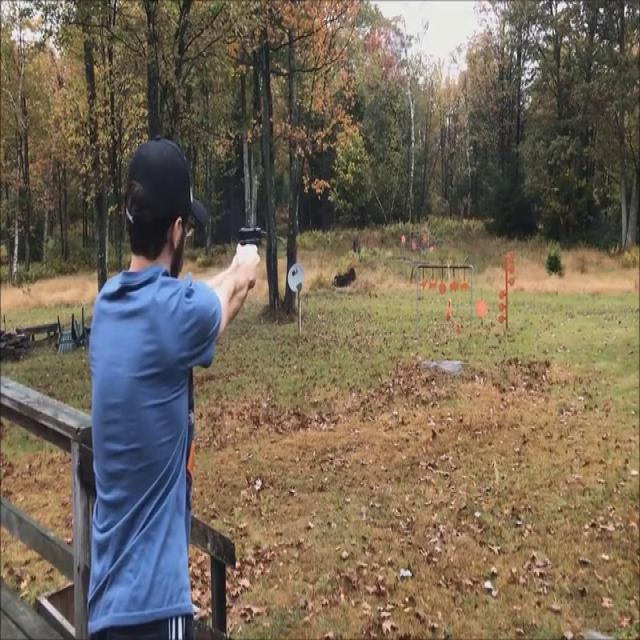gun-knife-thesis - v11 Yolov5 augmented: (227, 216, 292, 291)
